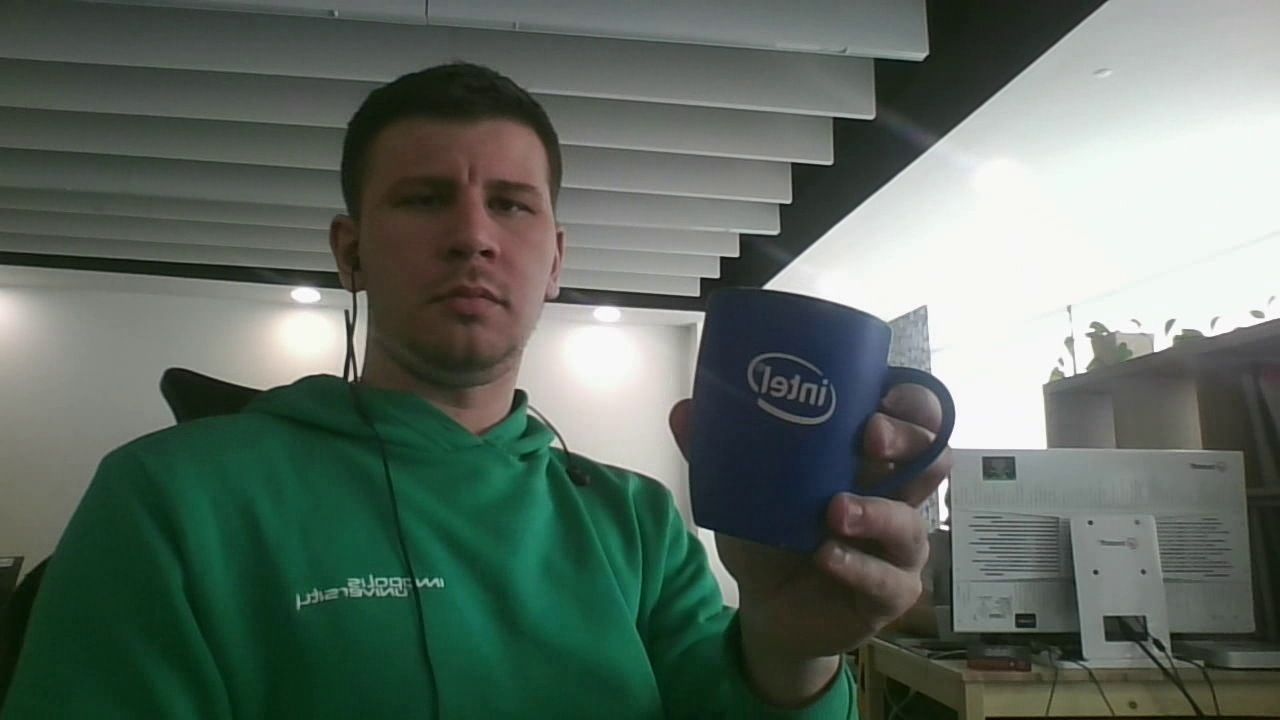cup: (688, 286, 958, 561)
